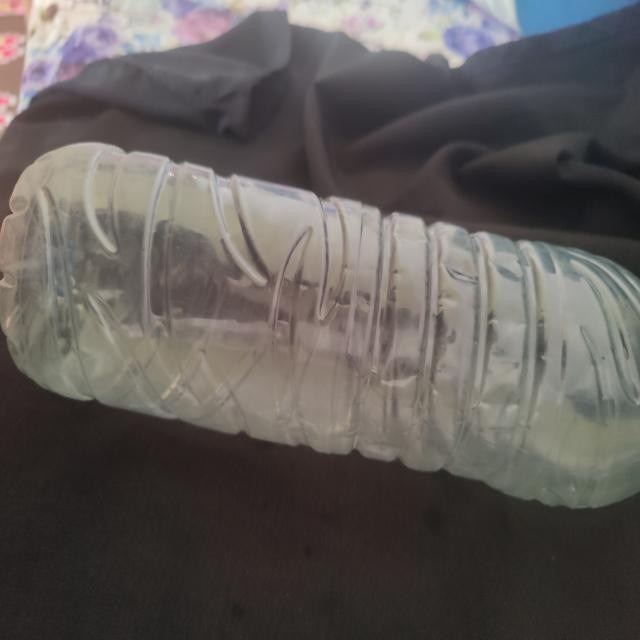plastic: (0, 145, 640, 479)
